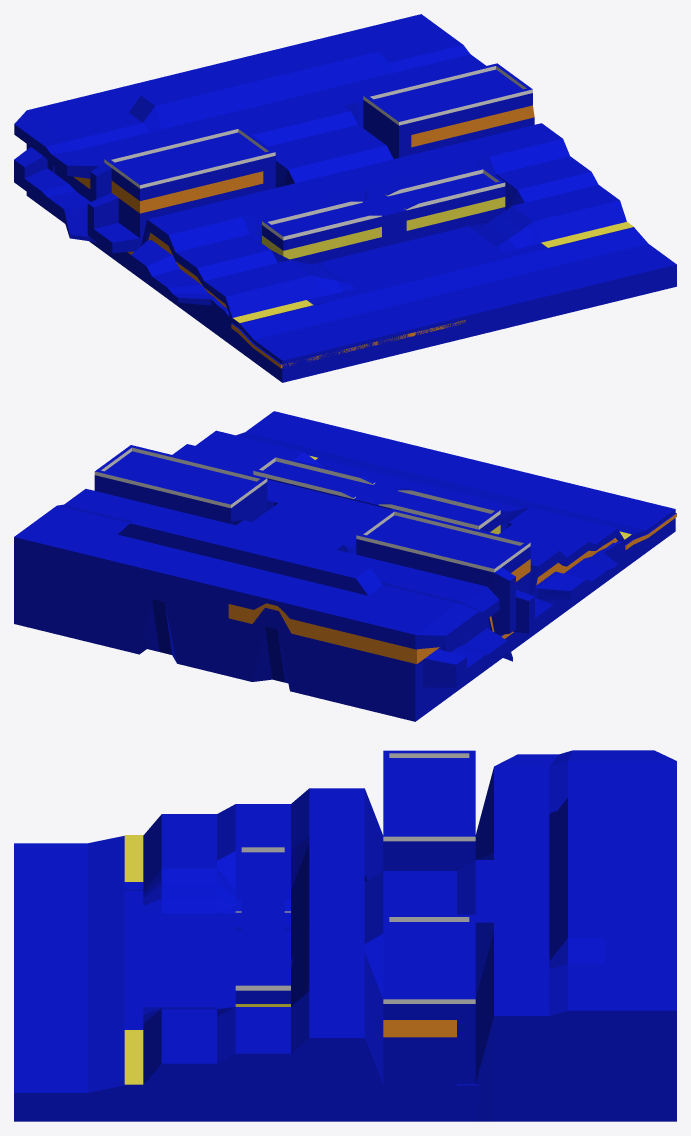
The model's file is Level16B1.fbx.
The picture shows the model from 3 angles, top to bottom: view 1: azimuth 30°, elevation 25°; view 2: azimuth 150°, elevation 25°; view 3: azimuth 270°, elevation 25°; orthographic projection. The views are drawn at different scales.
Parts seen in each view (by area): view 1: Plane; view 2: Plane; view 3: Plane.
Part boxes in pixels (box(x1,y1,x2,y2)): Plane: box(14, 14, 676, 382); Plane: box(14, 411, 676, 721); Plane: box(14, 750, 676, 1121).
Size of the model in its own units: 1992 by 450 by 2095.
